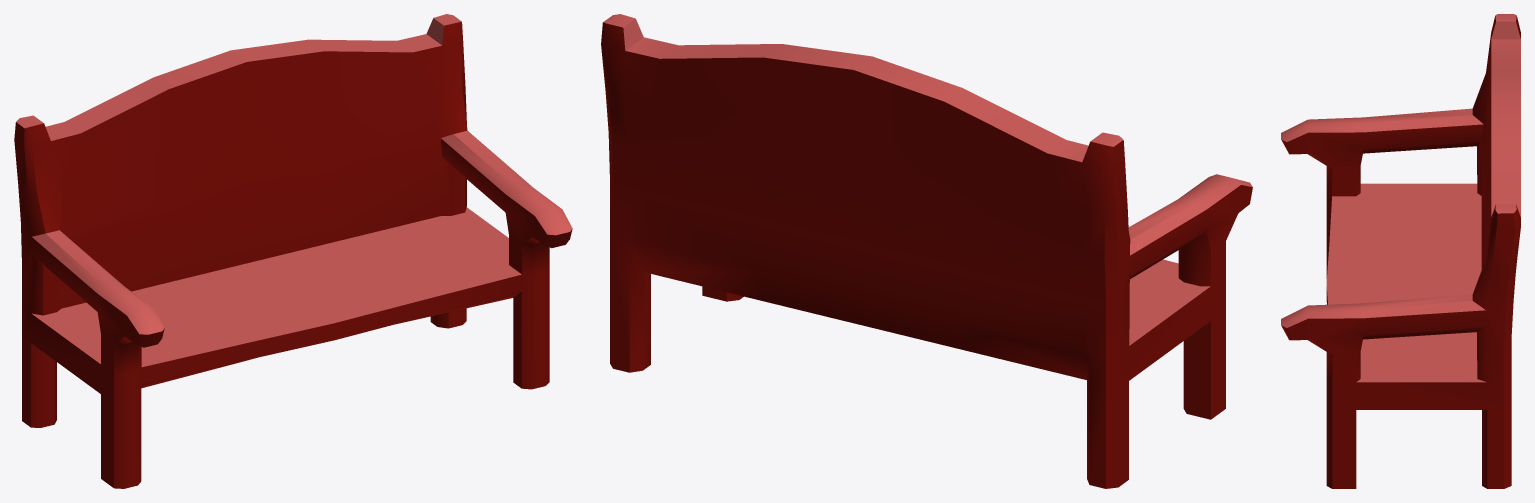
File: bench.glb
The picture shows the model from 3 angles, left to right: view 1: azimuth 30°, elevation 25°; view 2: azimuth 150°, elevation 25°; view 3: azimuth 270°, elevation 25°; orthographic projection. The views are drawn at different scales.
Visible parts, largest first — view 1: bench.col; view 2: bench.col; view 3: bench.col.
Part boxes in pixels (left/top/right/bottom): bench.col: left=14, top=14, right=572, bottom=488; bench.col: left=601, top=14, right=1252, bottom=488; bench.col: left=1281, top=14, right=1520, bottom=488.
Bounding box in the file's own units: 1.54 × 1.04 × 0.7821.
Materials: 1 (1 with a texture image).
